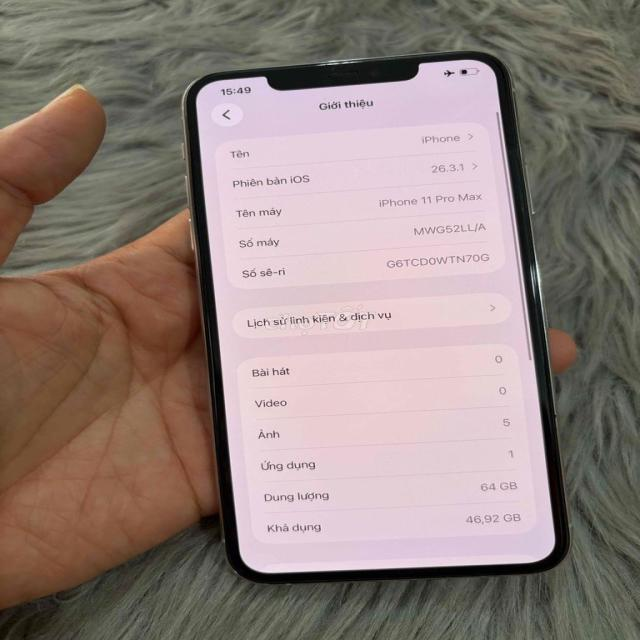gen_11: (176, 42, 575, 591)
